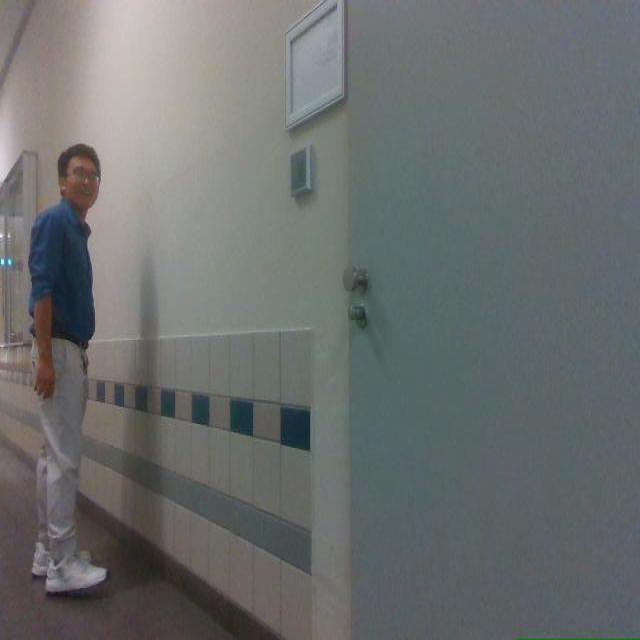humans: (29, 144, 107, 593)
